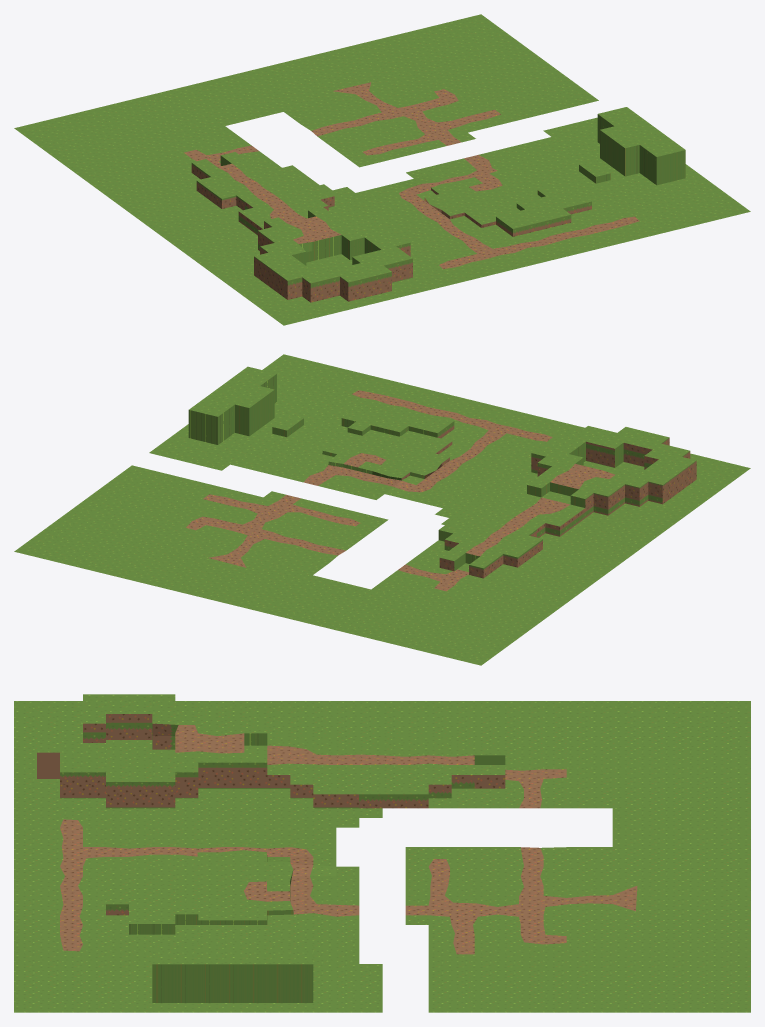
The model's file is UPDATED PATH ZONE PLANE.fbx.
The picture shows the model from 3 angles, top to bottom: view 1: azimuth 30°, elevation 25°; view 2: azimuth 150°, elevation 25°; view 3: azimuth 270°, elevation 25°; orthographic projection. The views are drawn at different scales.
Parts seen in each view (by area): view 1: Plane.019; view 2: Plane.019; view 3: Plane.019.
Boxes of the visible parts, box(x1,y1,x2,y2) form: Plane.019: box(14, 14, 750, 325); Plane.019: box(14, 354, 750, 665); Plane.019: box(14, 694, 750, 1012).
Bounding box in the file's own units: 43263 × 3400 × 43263.
